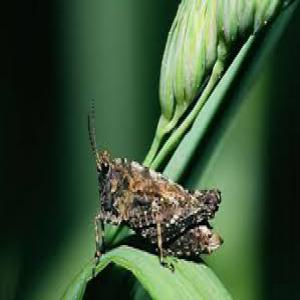locust: (86, 102, 225, 269)
